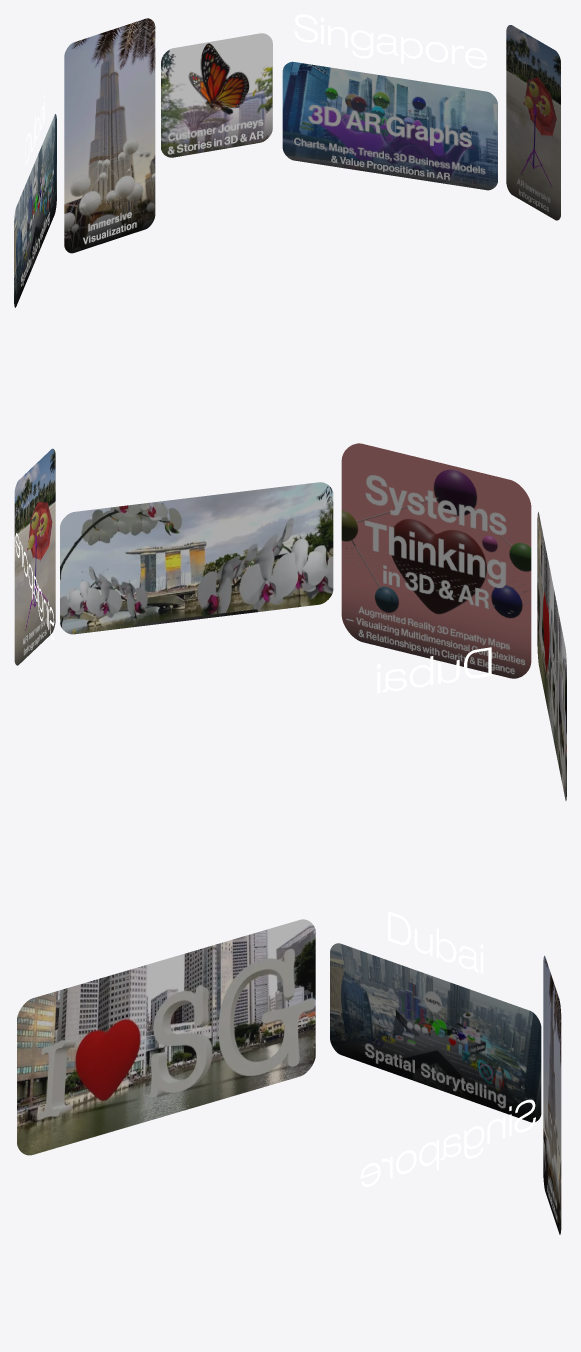
The model's file is backx.glb.
The picture shows the model from 3 angles, top to bottom: view 1: azimuth 30°, elevation 25°; view 2: azimuth 150°, elevation 25°; view 3: azimuth 270°, elevation 25°; orthographic projection. The views are drawn at different scales.
Parts seen in each view (by area): view 1: aa.002, aa.161, aa.162, aa.163, Text.001; view 2: aa.164, aa.014, aa.163, aa.025, Text.001; view 3: aa.025, Text.001, aa.161.
Part boxes in pixels (x1,y1,x2,y2): aa.002: (282,61,497,190); aa.161: (64,18,155,253); aa.162: (161,33,272,157); aa.163: (506,25,560,220); Text.001: (14,14,487,307); aa.164: (341,443,531,678); aa.014: (60,482,333,634); aa.163: (14,448,55,665); aa.025: (537,512,566,800); Text.001: (15,533,491,693); aa.025: (17,919,315,1155); Text.001: (330,911,541,1186); aa.161: (543,955,561,1234).
Size of the model in its own units: 12.27 by 4.99 by 10.41.
9 materials, 8 textured.
